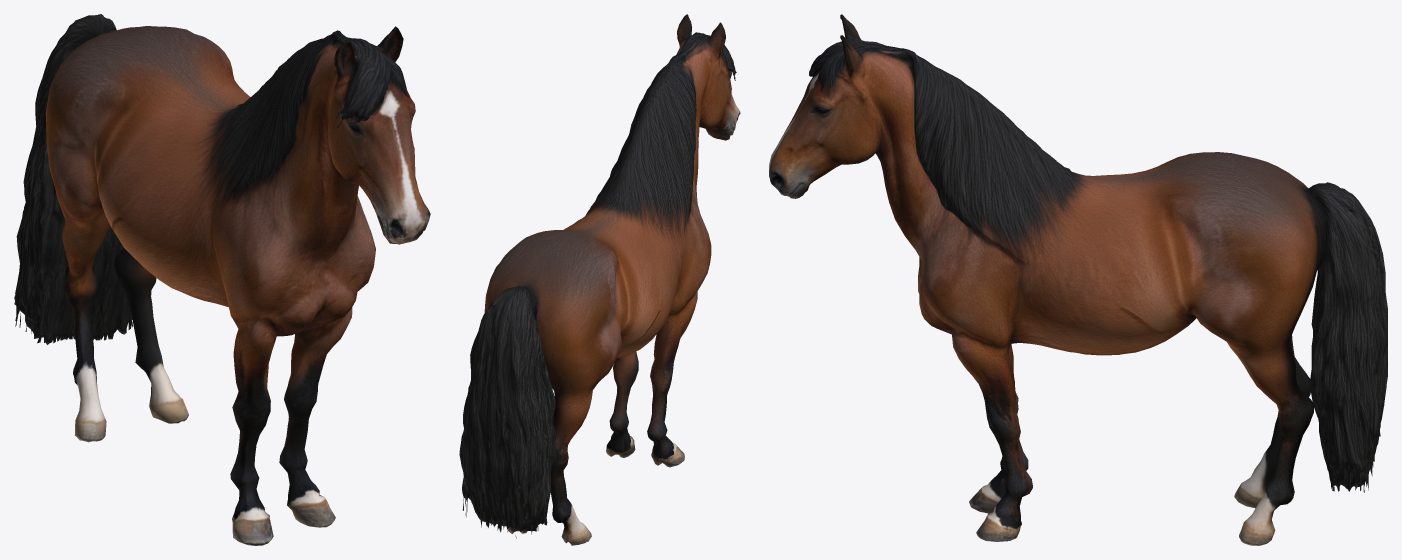
3 renders of one model, left to right at view 1: azimuth 30°, elevation 25°; view 2: azimuth 150°, elevation 25°; view 3: azimuth 270°, elevation 25°, orthographic. The views are drawn at different scales.
Parts seen in each view (by area): view 1: Model_0; view 2: Model_0; view 3: Model_0.
Part boxes in pixels (x1,y1,x2,y2): Model_0: (14,14,430,545); Model_0: (459,14,740,545); Model_0: (769,14,1387,545).
Size of the model in its own units: 0.2955 by 0.8983 by 1.
Materials: 1 (1 with a texture image).
